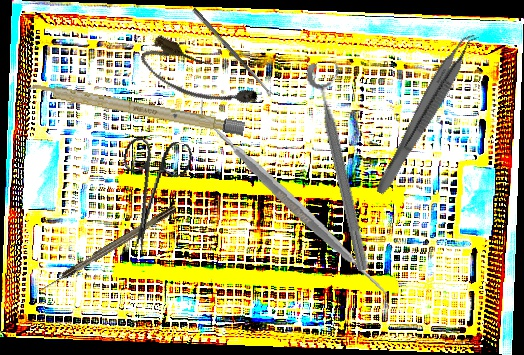Cannula: (135, 31, 263, 125)
Fixation Ring: (304, 58, 386, 273)
Hook Surgical: (38, 204, 178, 294)
Iris Scissors: (106, 132, 195, 259)
Scalpel Handle: (26, 80, 246, 136)
Spatula Surgical: (187, 98, 400, 309)
Surgical Spoon: (191, 7, 274, 98)
Tissue Forceps: (373, 27, 481, 201)
